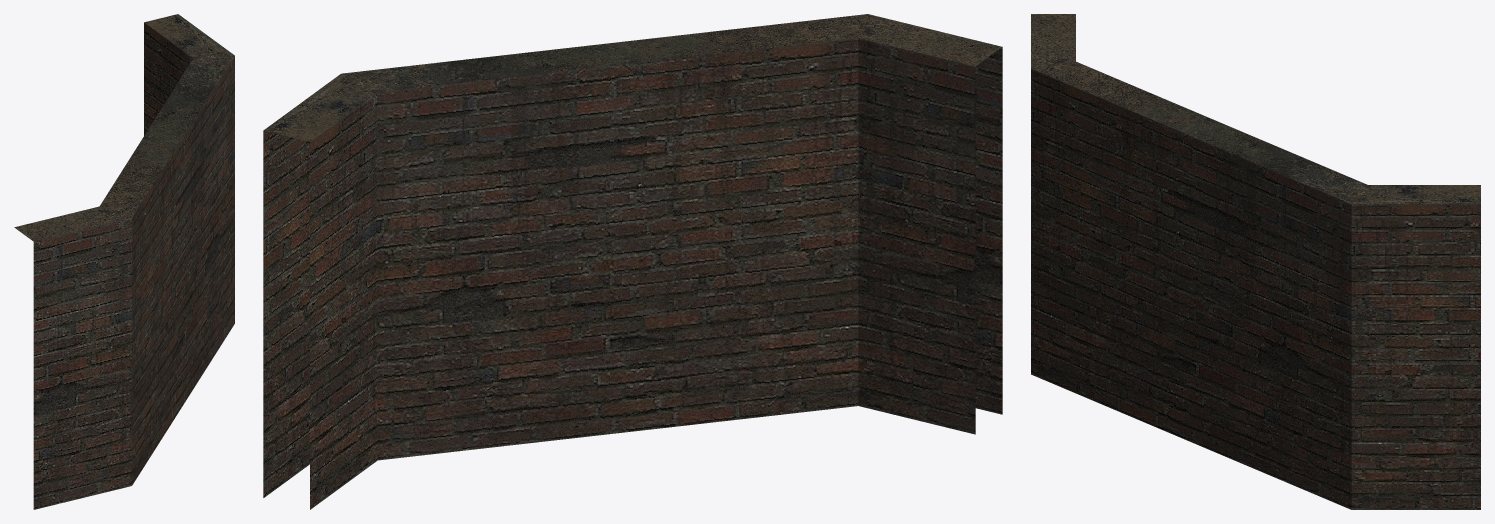
File: wall_hs_1_m1a_1.glb
The picture shows the model from 3 angles, left to right: view 1: azimuth 30°, elevation 25°; view 2: azimuth 150°, elevation 25°; view 3: azimuth 270°, elevation 25°; orthographic projection. The views are drawn at different scales.
Parts seen in each view (by area): view 1: wall_hs_1_m1a_1; view 2: wall_hs_1_m1a_1; view 3: wall_hs_1_m1a_1.
Boxes of the visible parts, x1,y1,x2,y2 form: wall_hs_1_m1a_1: (14,14,234,509); wall_hs_1_m1a_1: (263,14,1002,509); wall_hs_1_m1a_1: (1031,14,1480,509).
Size of the model in its own units: 4 by 3 by 4.
Materials: 2 (2 with a texture image).
